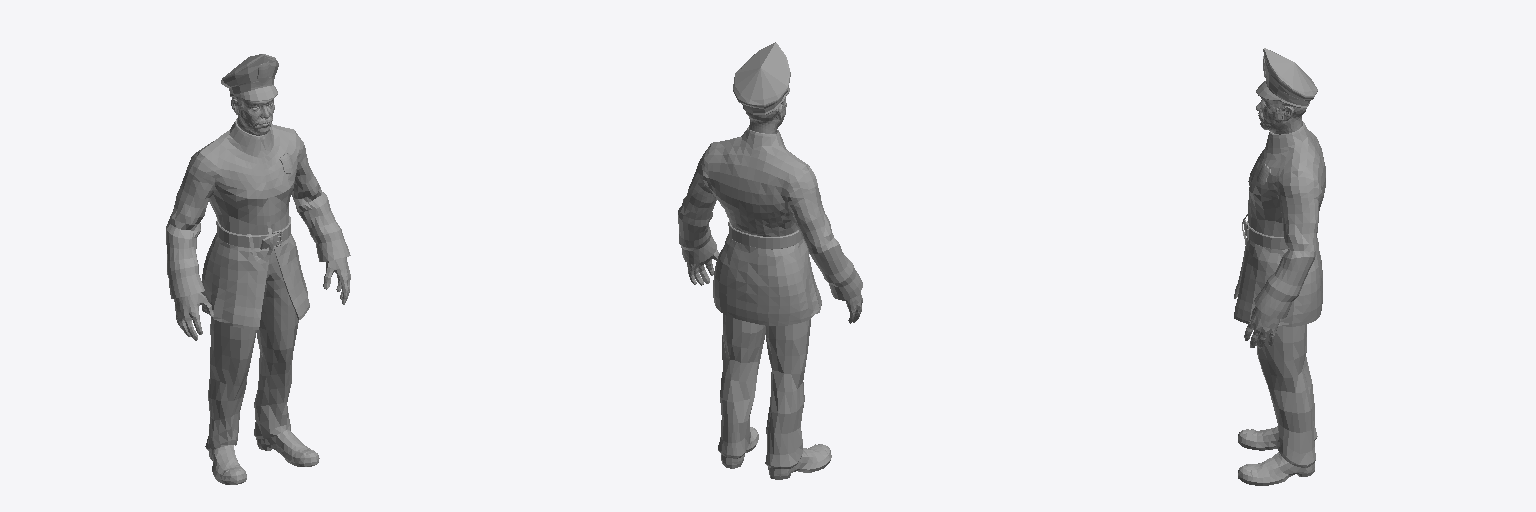
The model's file is Policeman.obj.
3 views of the same model, side by side, from view 1: azimuth 30°, elevation 25°; view 2: azimuth 150°, elevation 25°; view 3: azimuth 270°, elevation 25° (orthographic).
Bounding box in the file's own units: 1.78 × 4.04 × 0.8123.